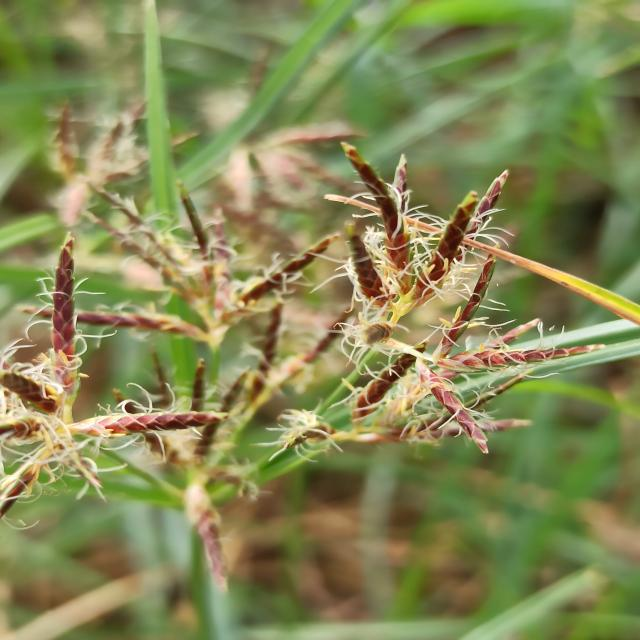cyperus: (0, 143, 588, 526), (88, 181, 306, 333), (36, 98, 180, 223), (223, 121, 352, 208)
